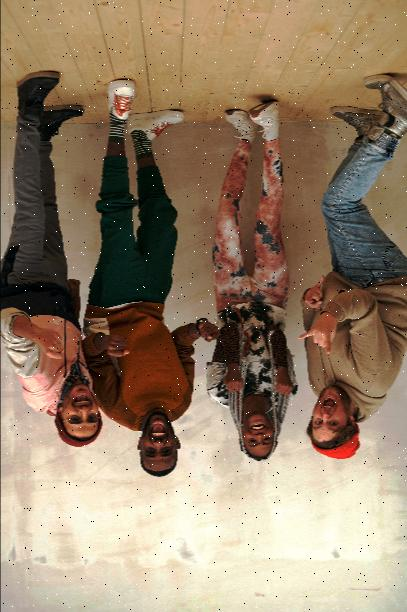Rock: (34, 323, 66, 367), (102, 326, 133, 367), (270, 362, 300, 398), (192, 316, 223, 348), (220, 366, 249, 398)
